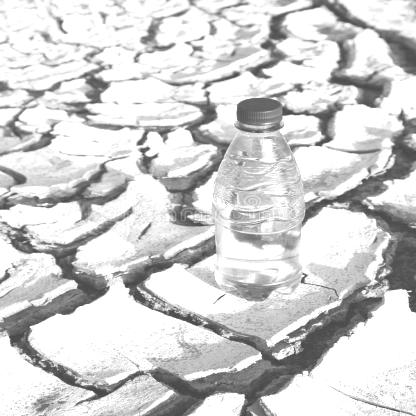bottle: (204, 193, 313, 199)
